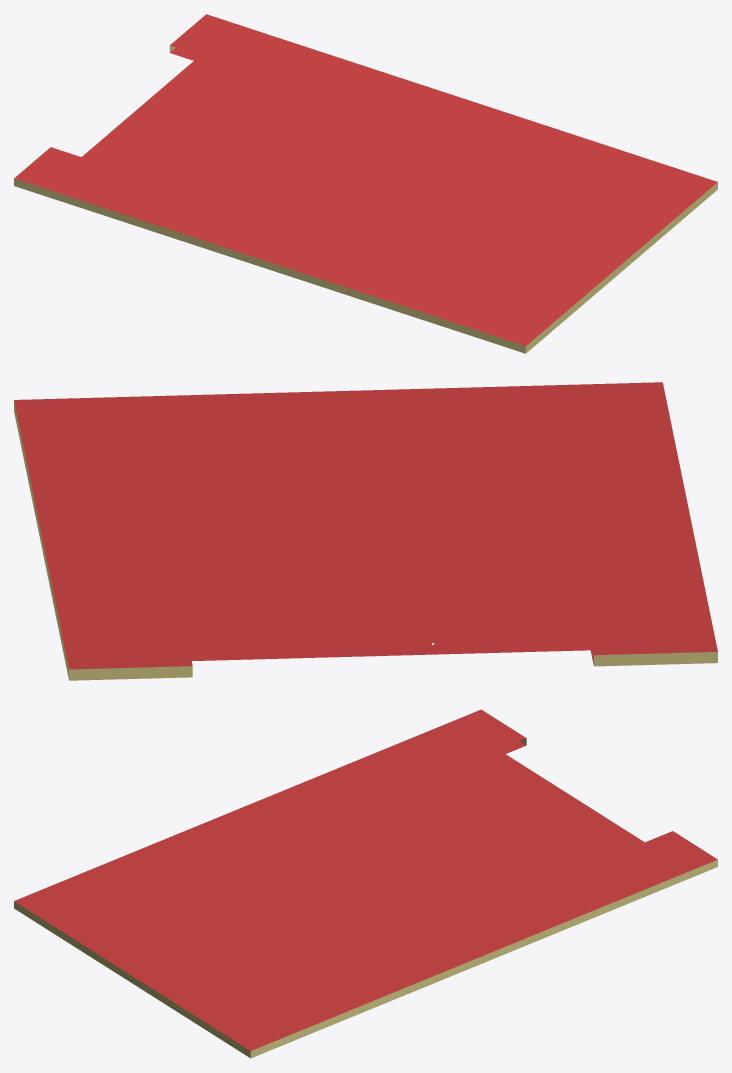
3 views of the same model, one above another, from view 1: azimuth 30°, elevation 25°; view 2: azimuth 150°, elevation 25°; view 3: azimuth 270°, elevation 25° (orthographic). The views are drawn at different scales.
Bounding box in the file's own units: 8.18 × 8.64 × 0.911.
